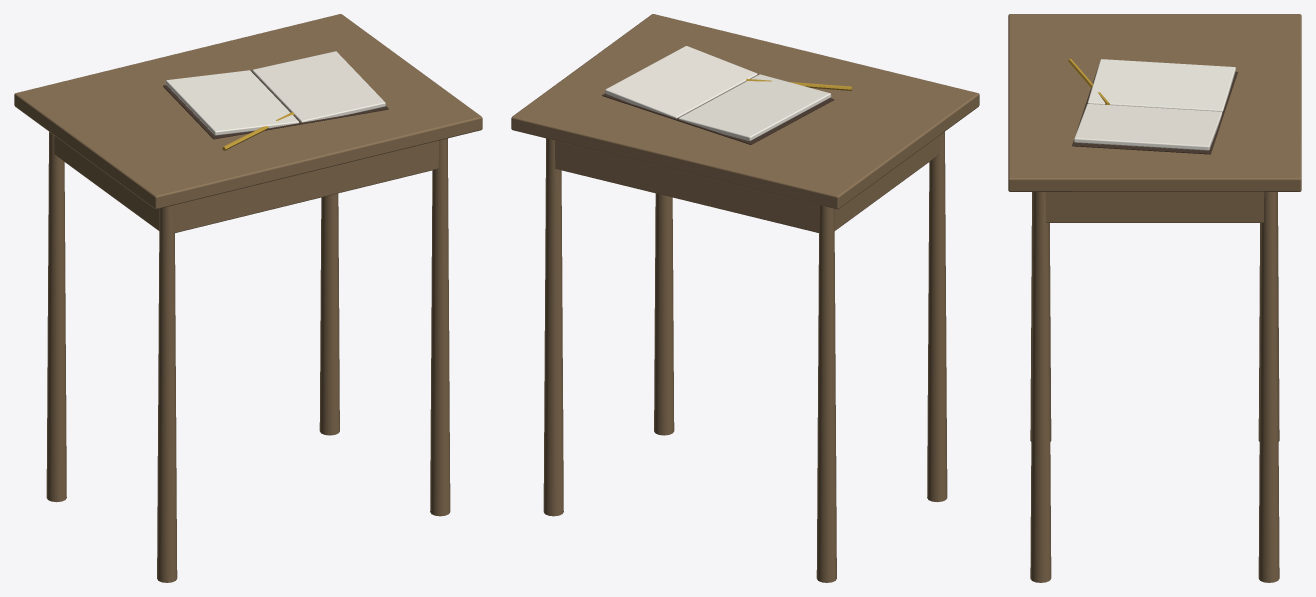
File: sidetable.glb
The picture shows the model from 3 angles, left to right: view 1: azimuth 30°, elevation 25°; view 2: azimuth 150°, elevation 25°; view 3: azimuth 270°, elevation 25°; orthographic projection. The views are drawn at different scales.
Visible parts, largest first — view 1: SideTable_Top, SideTable, SideTable_Apron_-1, SideTable_Leg_-1_-1, SideTable_Leg_1_-1, SideTable_Notebook, SideTable_Notebook_Page_-1, SideTable_ApronS_-1, SideTable_Notebook_Cover; view 2: SideTable_Top, SideTable, SideTable_Leg_-1_-1, SideTable_Notebook, SideTable_Notebook_Page_-1, SideTable_Leg_1_-1, SideTable_ApronS_-1, SideTable_Notebook_Cover; view 3: SideTable_Top, SideTable, SideTable_Leg_1_-1, SideTable_Notebook_Page_-1, SideTable_Notebook, SideTable_Notebook_Cover, SideTable_Leg_-1_-1.
Part boxes in pixels (bbox=[...]): SideTable_Top: bbox=[14, 14, 482, 209]; SideTable: bbox=[46, 132, 339, 502]; SideTable_Apron_-1: bbox=[174, 140, 438, 233]; SideTable_Leg_-1_-1: bbox=[157, 205, 177, 582]; SideTable_Leg_1_-1: bbox=[430, 138, 450, 516]; SideTable_Notebook: bbox=[252, 51, 385, 122]; SideTable_Notebook_Page_-1: bbox=[165, 70, 299, 135]; SideTable_ApronS_-1: bbox=[54, 135, 159, 230]; SideTable_Notebook_Cover: bbox=[163, 70, 388, 139]; SideTable_Top: bbox=[511, 14, 979, 209]; SideTable: bbox=[543, 138, 836, 582]; SideTable_Leg_-1_-1: bbox=[927, 132, 947, 502]; SideTable_Notebook: bbox=[605, 46, 757, 118]; SideTable_Notebook_Page_-1: bbox=[678, 74, 831, 140]; SideTable_Leg_1_-1: bbox=[654, 193, 674, 435]; SideTable_ApronS_-1: bbox=[834, 135, 939, 230]; SideTable_Notebook_Cover: bbox=[602, 74, 834, 144]; SideTable_Top: bbox=[1008, 14, 1301, 191]; SideTable: bbox=[1045, 192, 1279, 582]; SideTable_Leg_1_-1: bbox=[1030, 192, 1051, 582]; SideTable_Notebook_Page_-1: bbox=[1087, 59, 1235, 111]; SideTable_Notebook: bbox=[1074, 104, 1222, 150]; SideTable_Notebook_Cover: bbox=[1072, 69, 1237, 154]; SideTable_Leg_-1_-1: bbox=[1030, 192, 1051, 441].
Size of the model in its own units: 0.6 by 0.7122 by 0.45.
